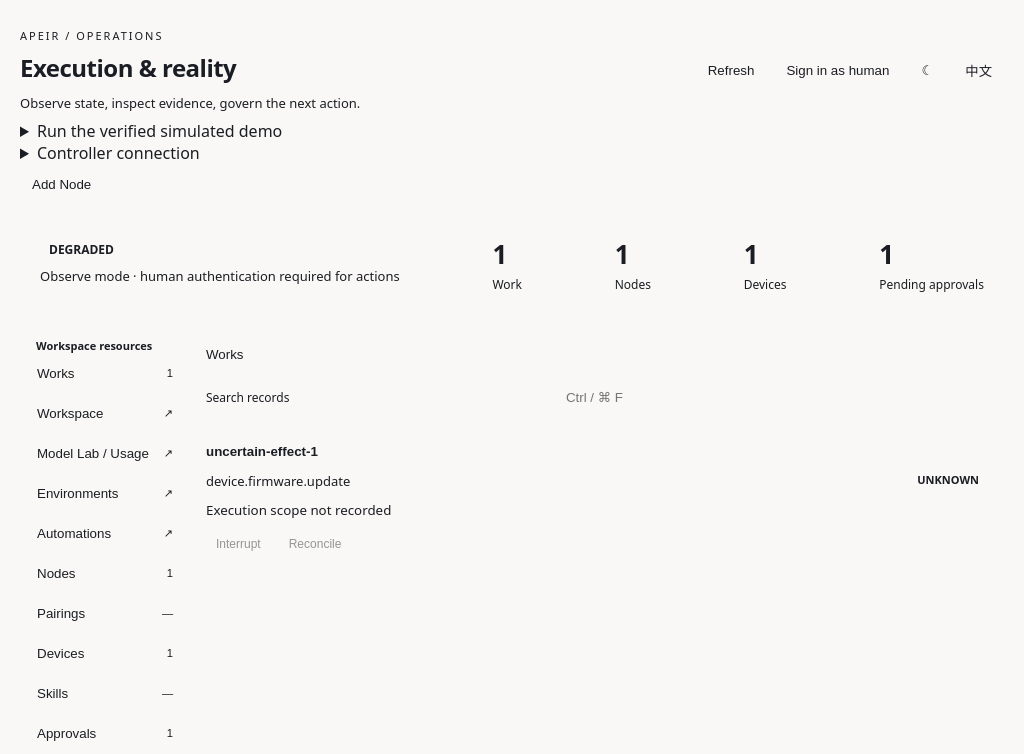
Operations Console › opens the existing Environment API view without model requests or duplicated state
The width and height of the screenshot is (1024, 754).
expect the button "uncertain-effect-1" is shown: met, box [206,440,318,464]
Click the button "environments ↗": (105, 493) [28,473,182,513]
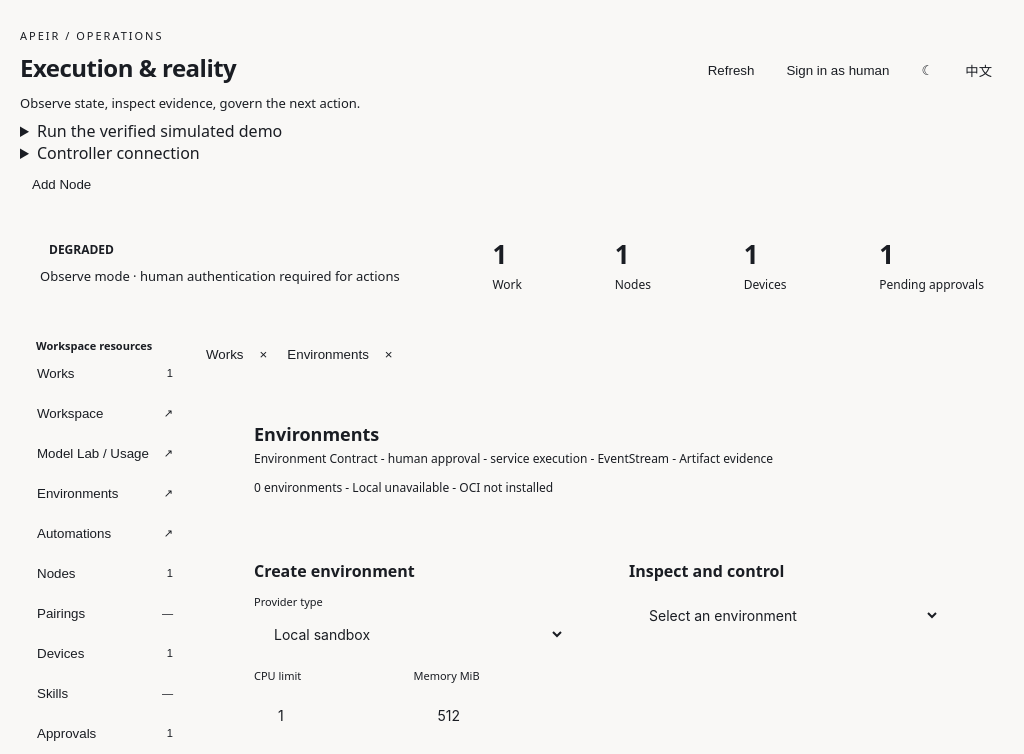
expect the text "Create environment" is shown: met, box [254,560,415,582]
expect the text "0 environments - Local unavailable - OCI not installed" is shown: met, box [254,479,553,496]
